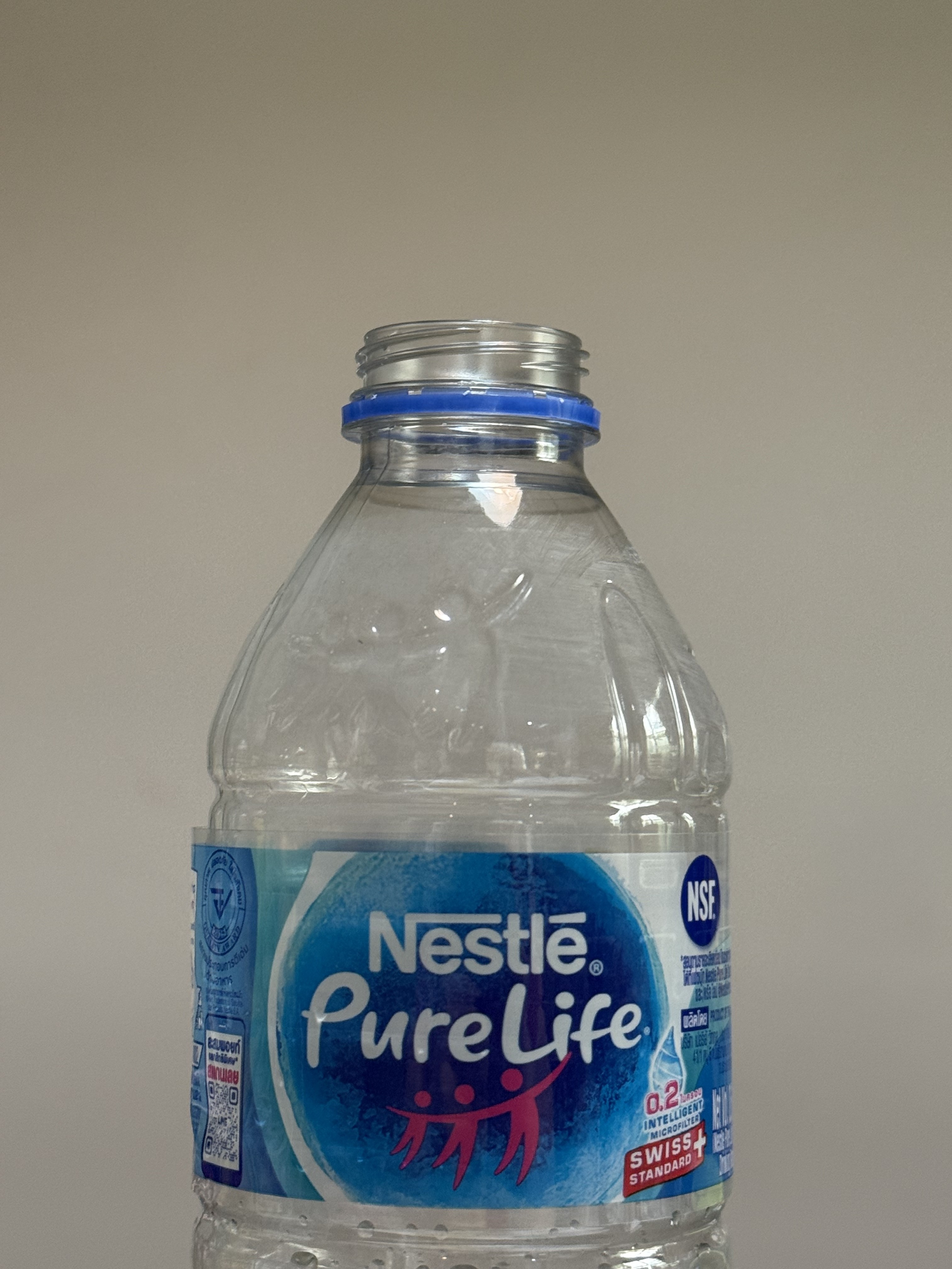no_cap: (340, 315, 600, 429)
